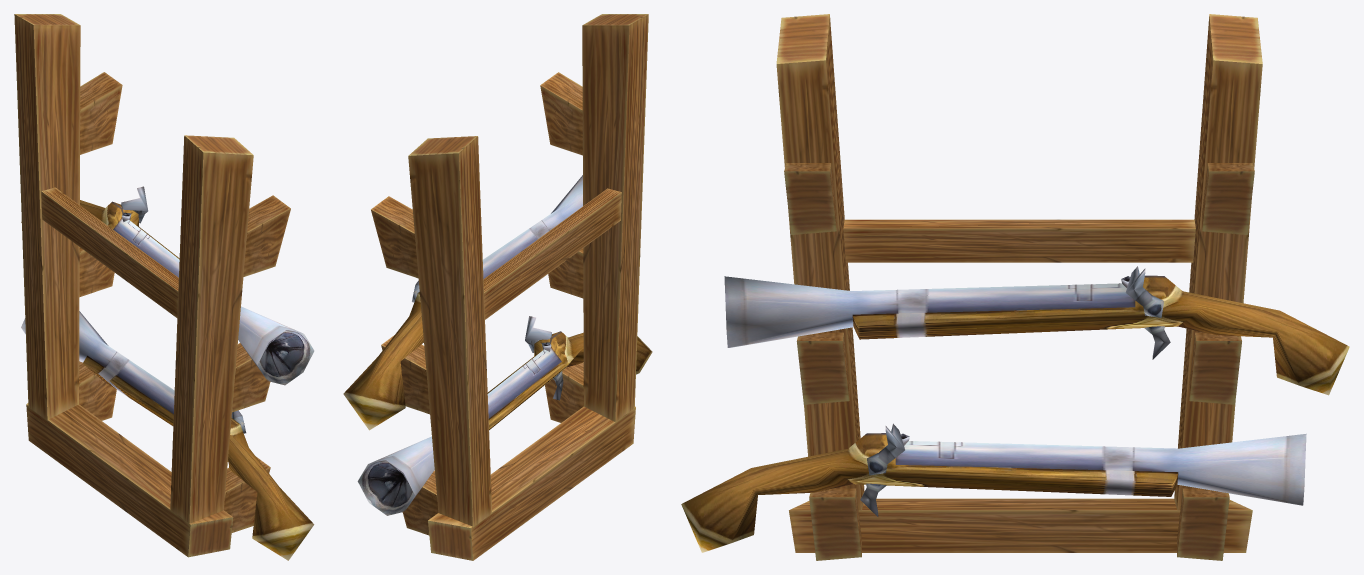
File: gunrack01b.obj
3 renders of one model, left to right at view 1: azimuth 30°, elevation 25°; view 2: azimuth 150°, elevation 25°; view 3: azimuth 270°, elevation 25°, orthographic. The views are drawn at different scales.
Visible parts, largest first — view 1: Geoset0, Geoset1; view 2: Geoset0, Geoset1; view 3: Geoset0, Geoset1.
Part boxes in pixels (bbox=[...]): Geoset0: bbox=[14, 14, 290, 557]; Geoset1: bbox=[21, 186, 314, 560]; Geoset0: bbox=[371, 14, 648, 560]; Geoset1: bbox=[343, 175, 652, 515]; Geoset0: bbox=[776, 14, 1262, 560]; Geoset1: bbox=[681, 266, 1349, 552].
Bounding box in the file's own units: 0.3431 × 1.54 × 1.77.
Materials: 2 (2 with a texture image).
